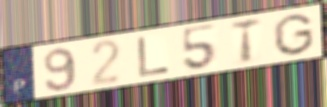2: (89, 38, 125, 89)
5: (179, 21, 219, 73)
9: (41, 46, 78, 92)
G: (271, 12, 316, 57)
L: (135, 35, 172, 79)
T: (229, 15, 263, 65)
